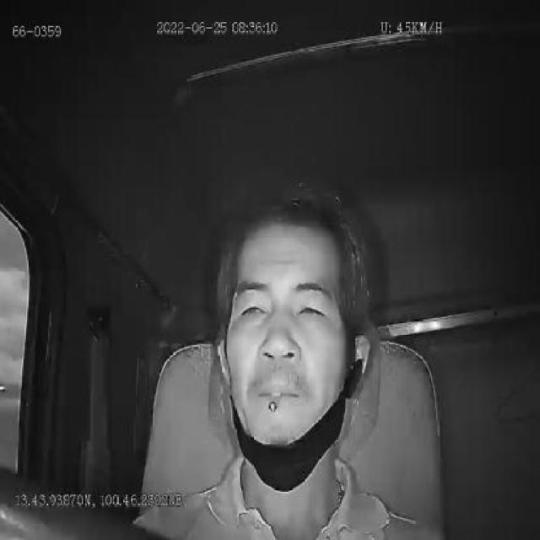smoking: (268, 390, 280, 416)
